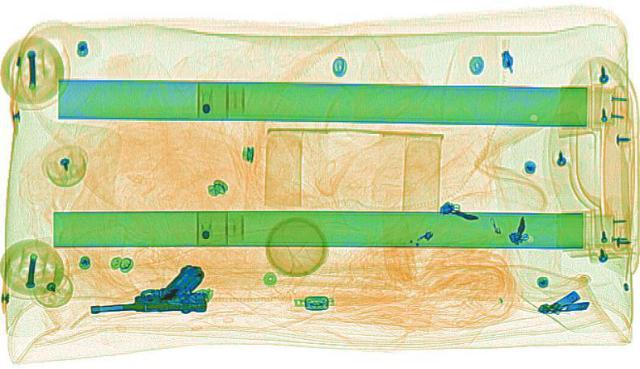Gun: (84, 262, 214, 314)
